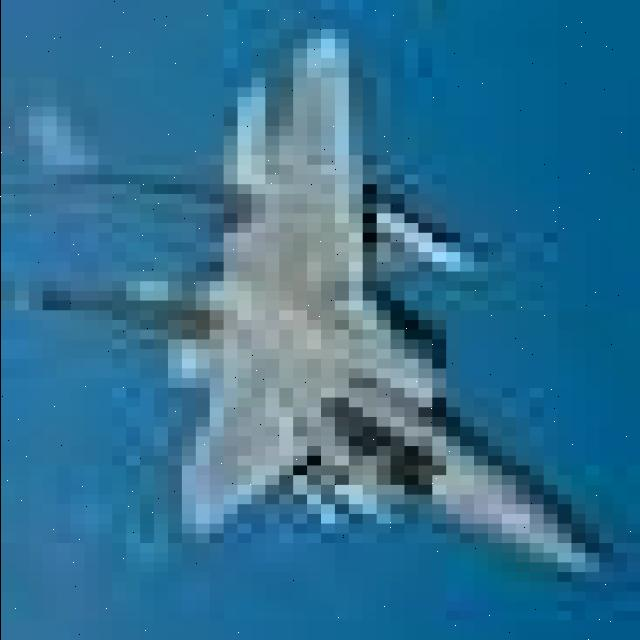F15: (12, 16, 610, 624)
